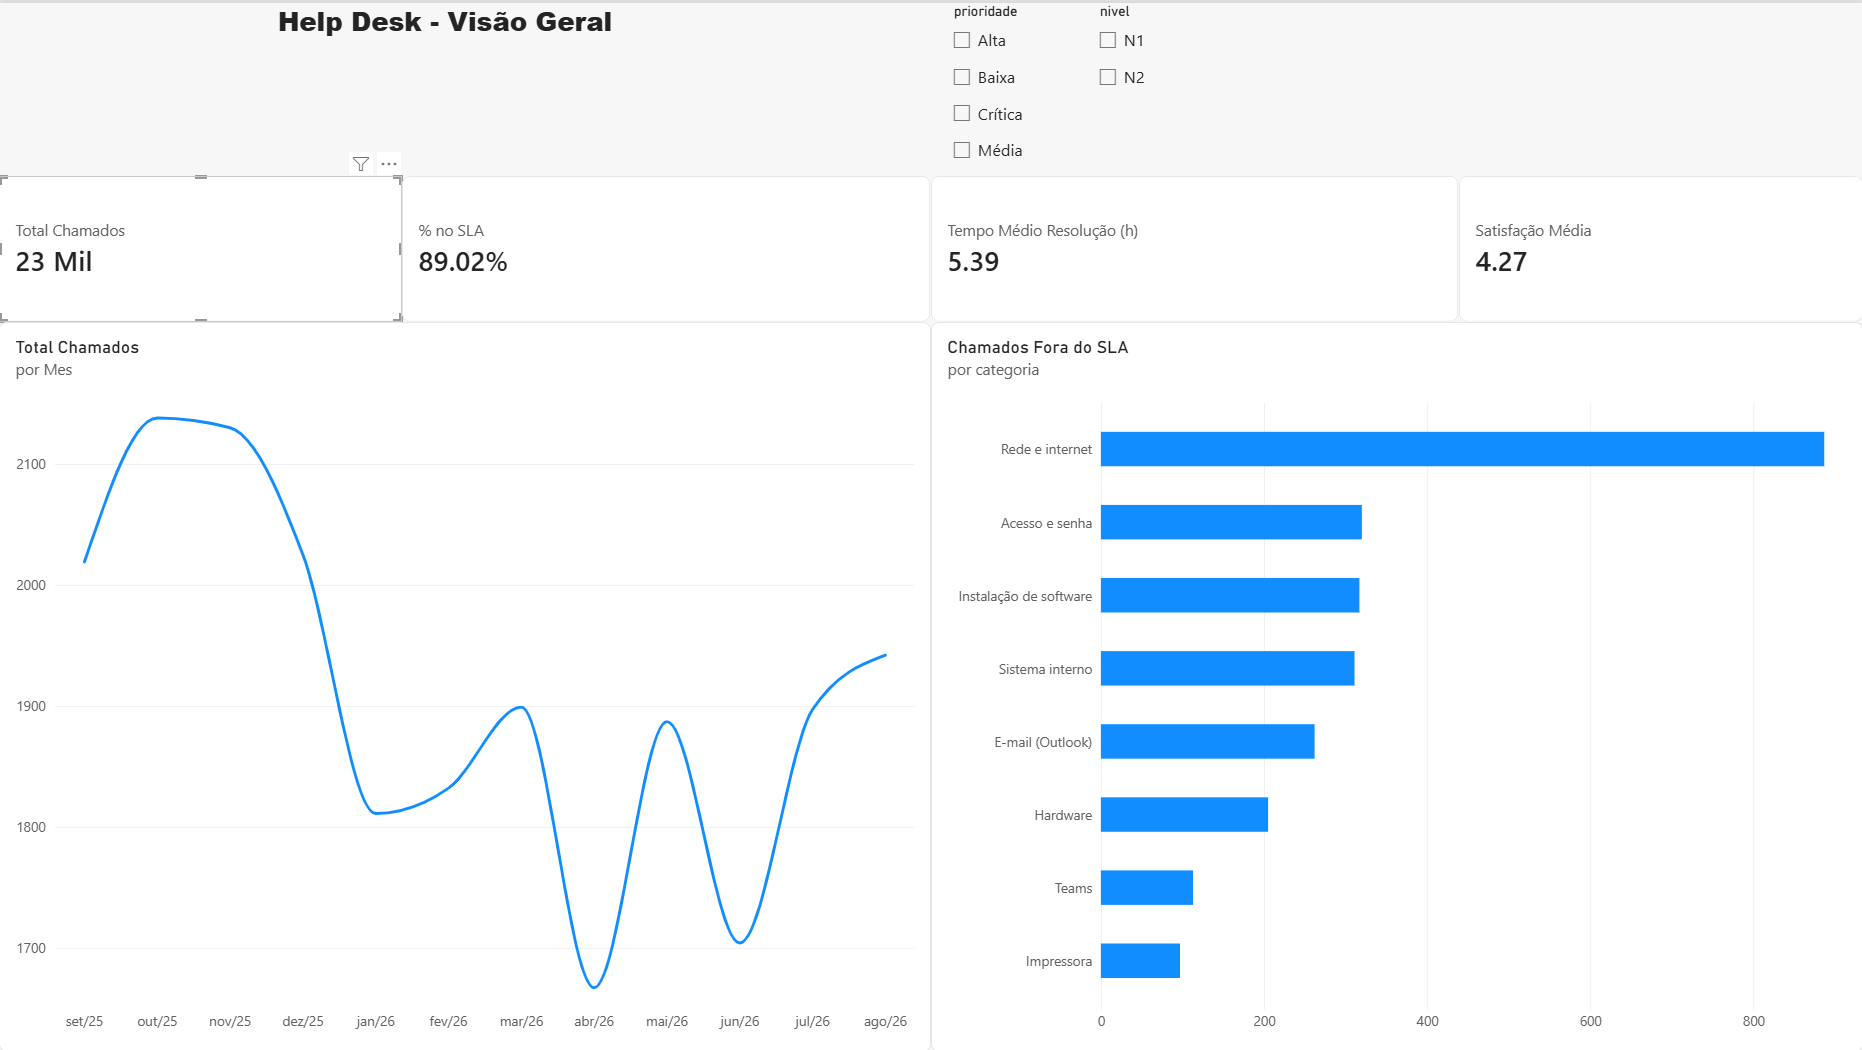

Layout of this report page (visuals, bound fields, positions):
{"tool":"powerbi","page":{"name":"Visão Geral","canvas":[1920,1080],"ordinal":0},"visuals":[{"type":"textbox","box":[10.3,0,898.2,61.8],"z":0},{"type":"cardVisual","fields":{"Data":["fChamados.Total Chamados"]},"box":[0,178.2,415.1,150.4],"z":1000},{"type":"cardVisual","fields":{"Data":["fChamados.% no SLA"]},"box":[415.1,178.2,544.9,150.4],"z":2000},{"type":"cardVisual","fields":{"Data":["fChamados.Tempo Médio Resolução (h)"]},"box":[960,178.2,543.9,150.4],"z":3000},{"type":"cardVisual","fields":{"Data":["fChamados.Satisfação Média"]},"box":[1503.9,178.2,416.1,150.4],"z":4000},{"type":"lineChart","fields":{"Category":["dCalendario.Mes"],"Y":["fChamados.Total Chamados"]},"box":[0,328.6,960,751.9],"z":5000},{"type":"barChart","fields":{"Category":["dCategorias.categoria"],"Y":["fChamados.Chamados Fora do SLA"]},"box":[960,328.6,960,751.9],"z":6000},{"type":"slicer","fields":{"Values":["fChamados.prioridade"]},"box":[975.5,0,150.4,178.2],"z":7000},{"type":"slicer","fields":{"Values":["dTecnicos.nivel"]},"box":[1125.8,0,80.3,97.9],"z":8000}]}

Visuals, with their boxes in screenshot pixels (x1, y1, x2, y2), scaled from the page's 1920x1080 canvas onto the 1862x1050 screenshot:
textbox: (left=10, top=0, right=881, bottom=60)
cardVisual - fChamados.Total Chamados: (left=0, top=173, right=403, bottom=319)
cardVisual - fChamados.% no SLA: (left=403, top=173, right=931, bottom=319)
cardVisual - fChamados.Tempo Médio Resolução (h): (left=931, top=173, right=1458, bottom=319)
cardVisual - fChamados.Satisfação Média: (left=1458, top=173, right=1861, bottom=319)
lineChart - dCalendario.Mes x fChamados.Total Chamados: (left=0, top=319, right=931, bottom=1049)
barChart - dCategorias.categoria x fChamados.Chamados Fora do SLA: (left=931, top=319, right=1861, bottom=1049)
slicer - fChamados.prioridade: (left=946, top=0, right=1092, bottom=173)
slicer - dTecnicos.nivel: (left=1092, top=0, right=1170, bottom=95)
